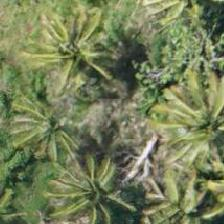coconut_tree: (27, 9, 117, 99), (4, 82, 94, 172), (48, 151, 138, 223), (163, 90, 223, 180), (139, 163, 223, 223)
